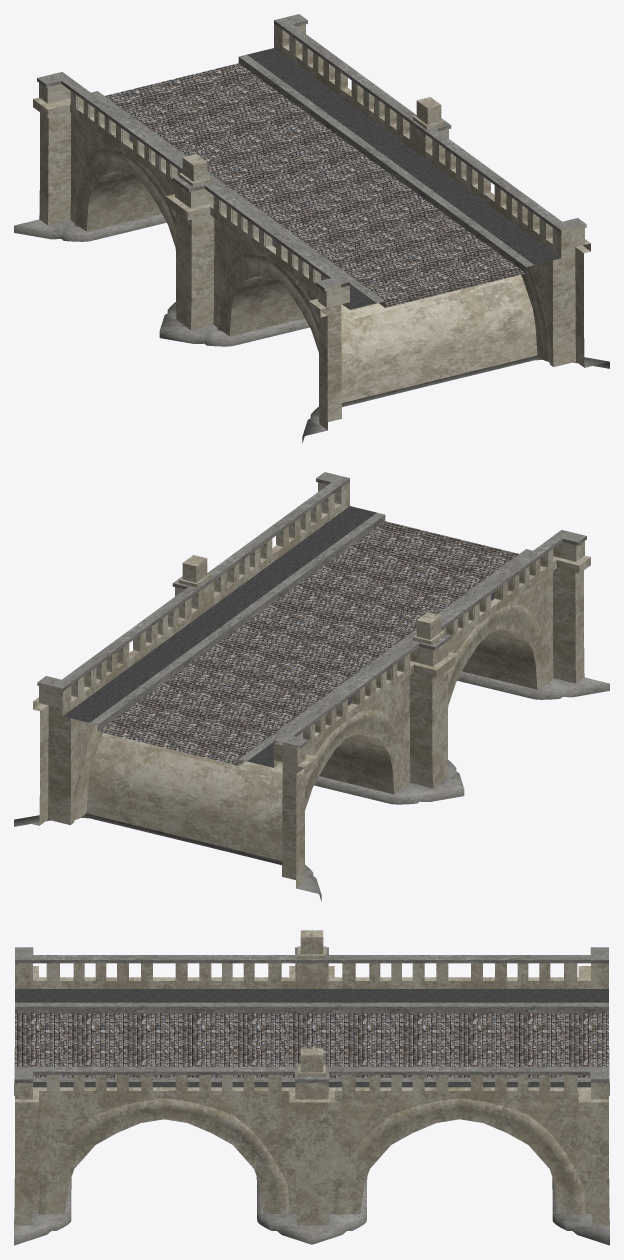
3 renders of one model, top to bottom at view 1: azimuth 30°, elevation 25°; view 2: azimuth 150°, elevation 25°; view 3: azimuth 270°, elevation 25°, orthographic. The views are drawn at different scales.
Visible parts, largest first — view 1: Box002, Road, Sidewalk, foothold, floating, houvast, houvast001; view 2: Box002, Road, Sidewalk, foothold, floating, houvast, houvast001; view 3: Box002, Road, Sidewalk, foothold, houvast, houvast001, floating.
Part boxes in pixels (bbox=[...]): Box002: bbox=[33, 24, 590, 430]; Road: bbox=[105, 63, 525, 307]; Sidewalk: bbox=[129, 48, 560, 309]; foothold: bbox=[91, 54, 533, 307]; floating: bbox=[14, 213, 609, 443]; houvast: bbox=[274, 14, 586, 233]; houvast001: bbox=[37, 72, 349, 291]; Box002: bbox=[33, 482, 590, 888]; Road: bbox=[98, 521, 518, 765]; Sidewalk: bbox=[63, 506, 494, 767]; foothold: bbox=[90, 512, 532, 765]; floating: bbox=[14, 671, 609, 901]; houvast: bbox=[37, 472, 349, 691]; houvast001: bbox=[274, 530, 586, 749]; Box002: bbox=[14, 930, 609, 1225]; Road: bbox=[15, 1013, 608, 1077]; Sidewalk: bbox=[15, 989, 608, 1087]; foothold: bbox=[15, 1002, 608, 1081]; houvast: bbox=[15, 1066, 608, 1082]; houvast001: bbox=[15, 947, 608, 963]; floating: bbox=[14, 1083, 609, 1245].
Bounding box in the file's own units: 142 × 74.71 × 230.
Materials: 4 (4 with a texture image).
